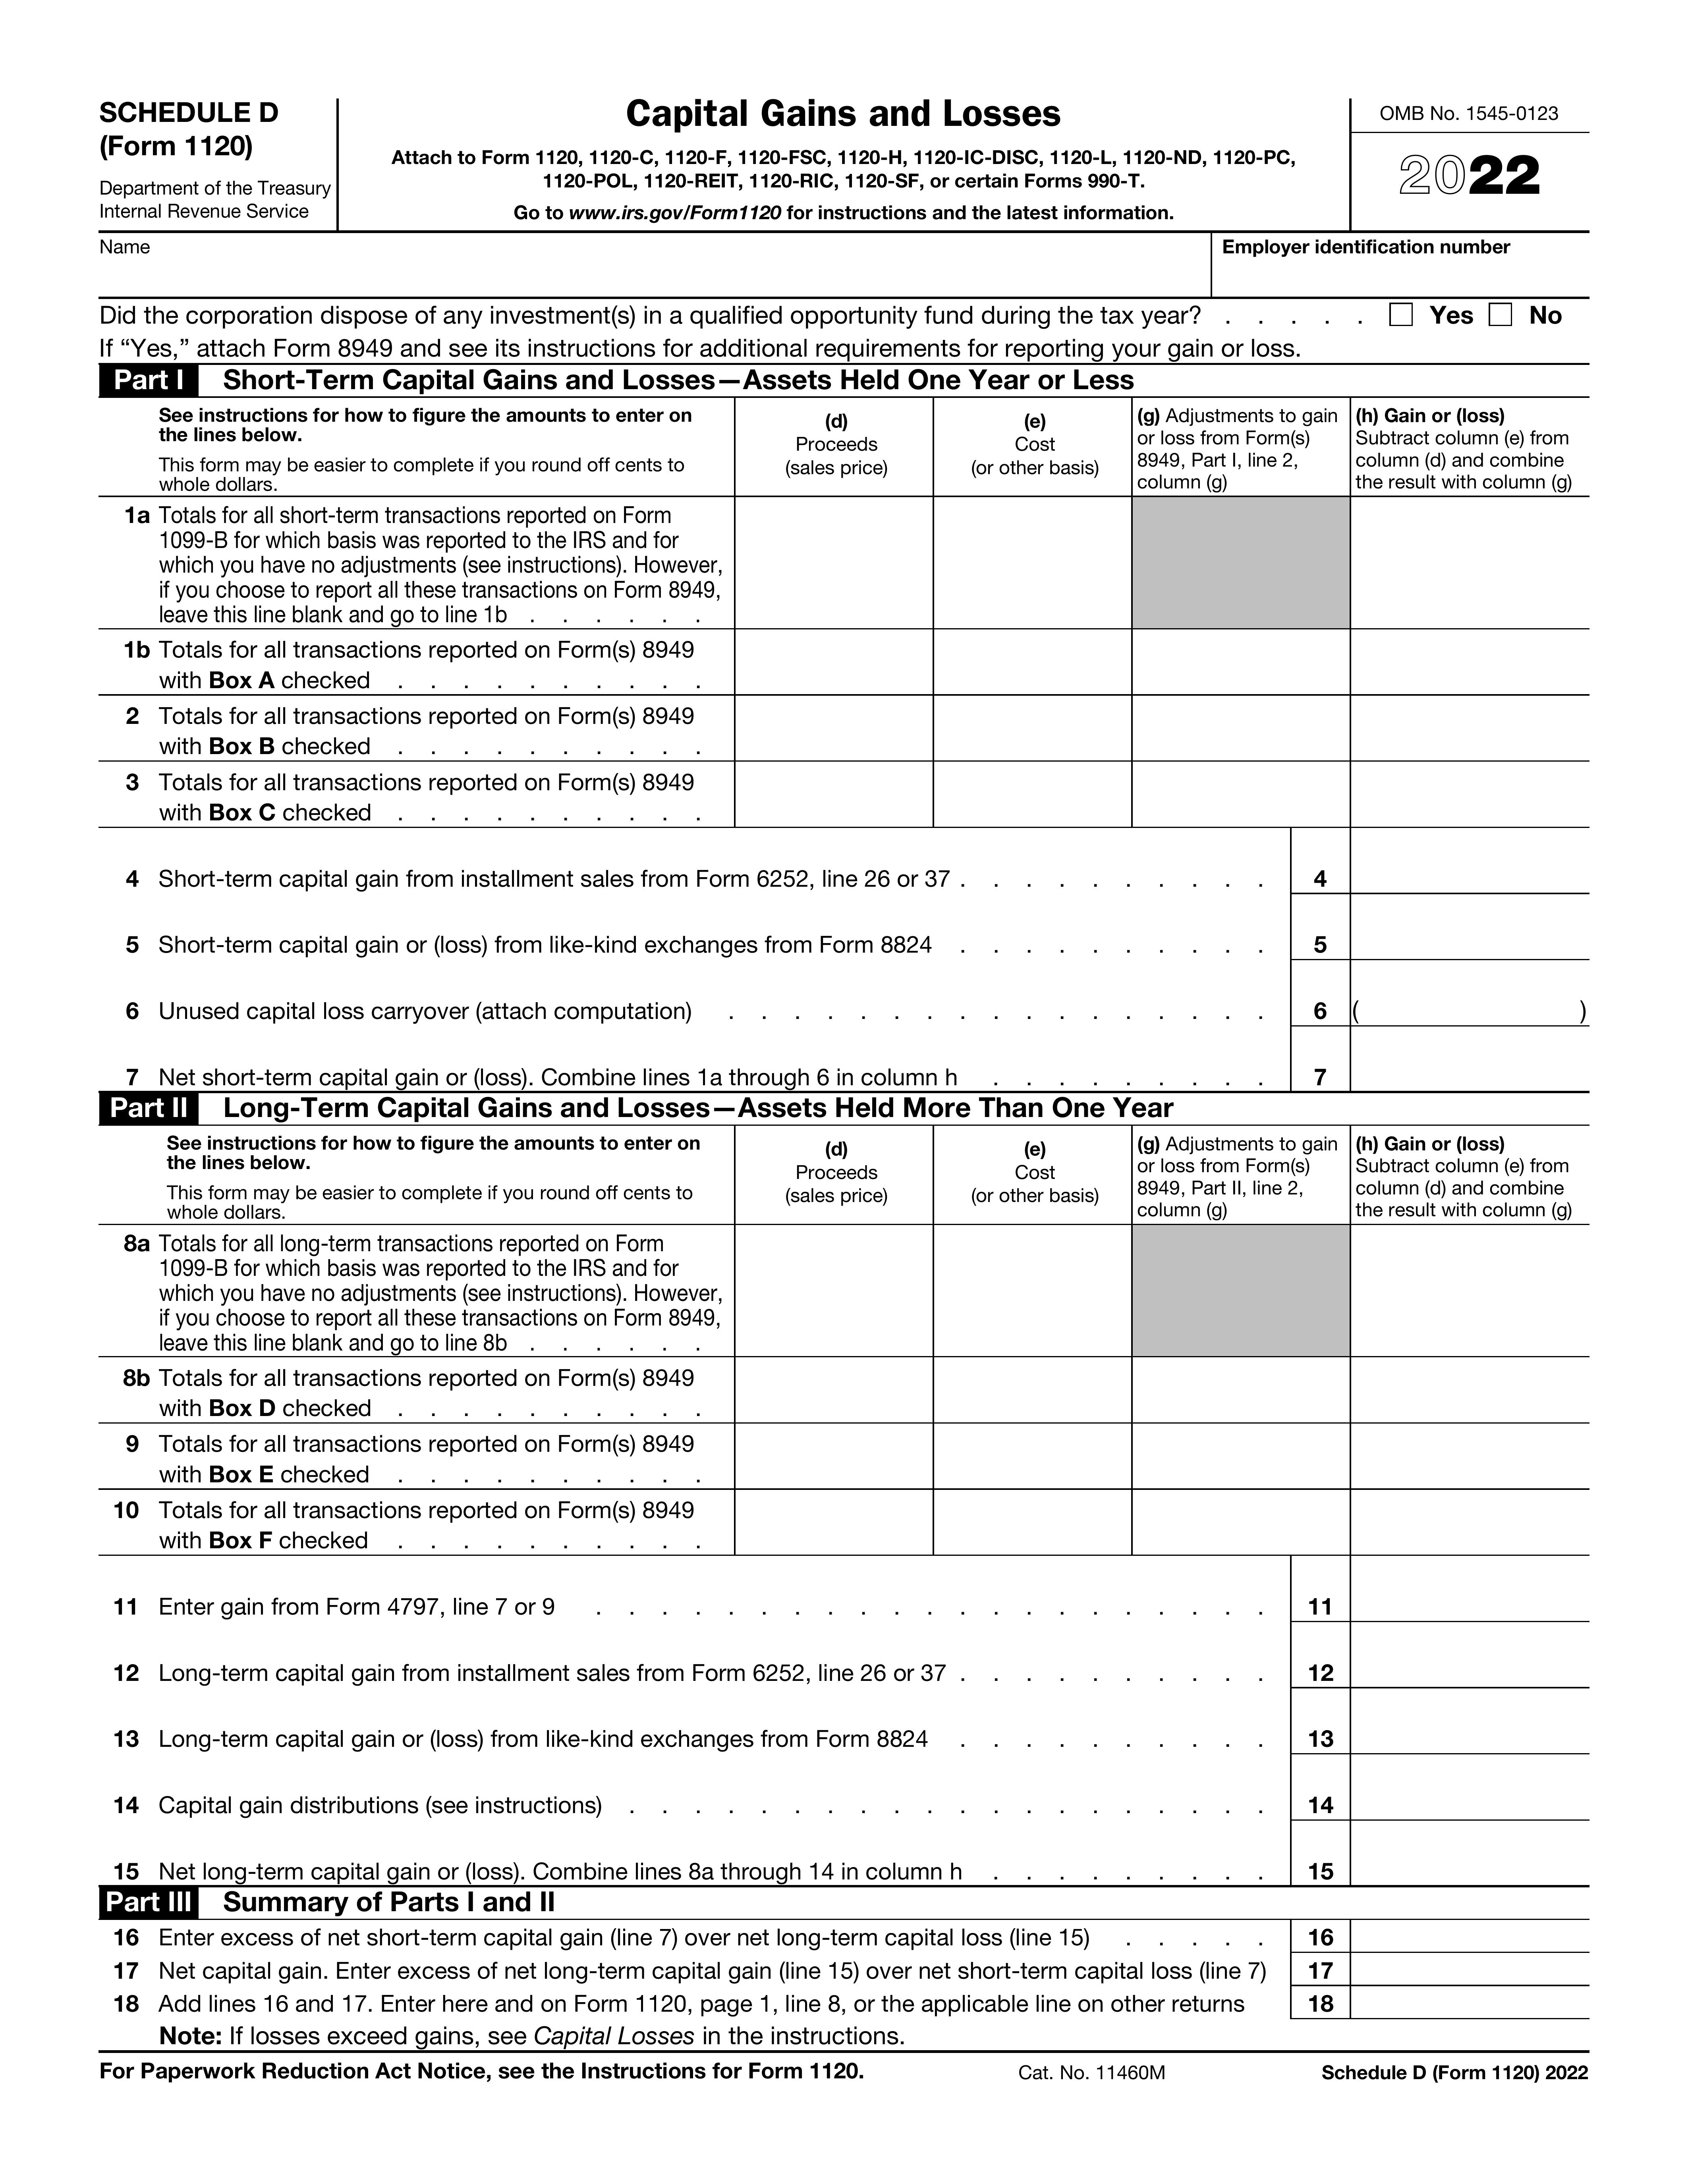form: (80, 80, 1612, 300)
table: (89, 1133, 1619, 1895), (76, 394, 1635, 1096), (85, 1922, 1624, 2053)
